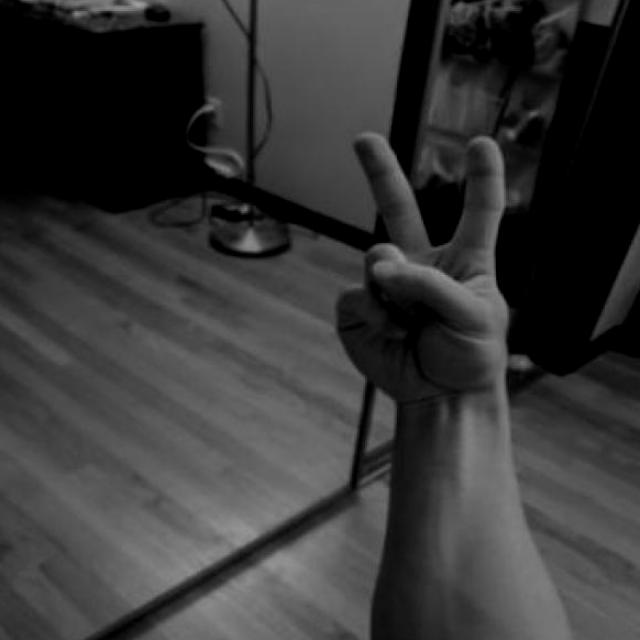V: (307, 123, 559, 463)
